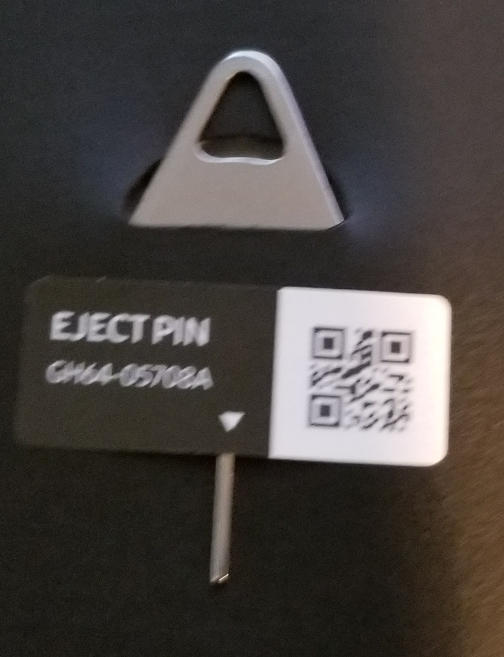QR_CODE: (295, 311, 422, 441)
